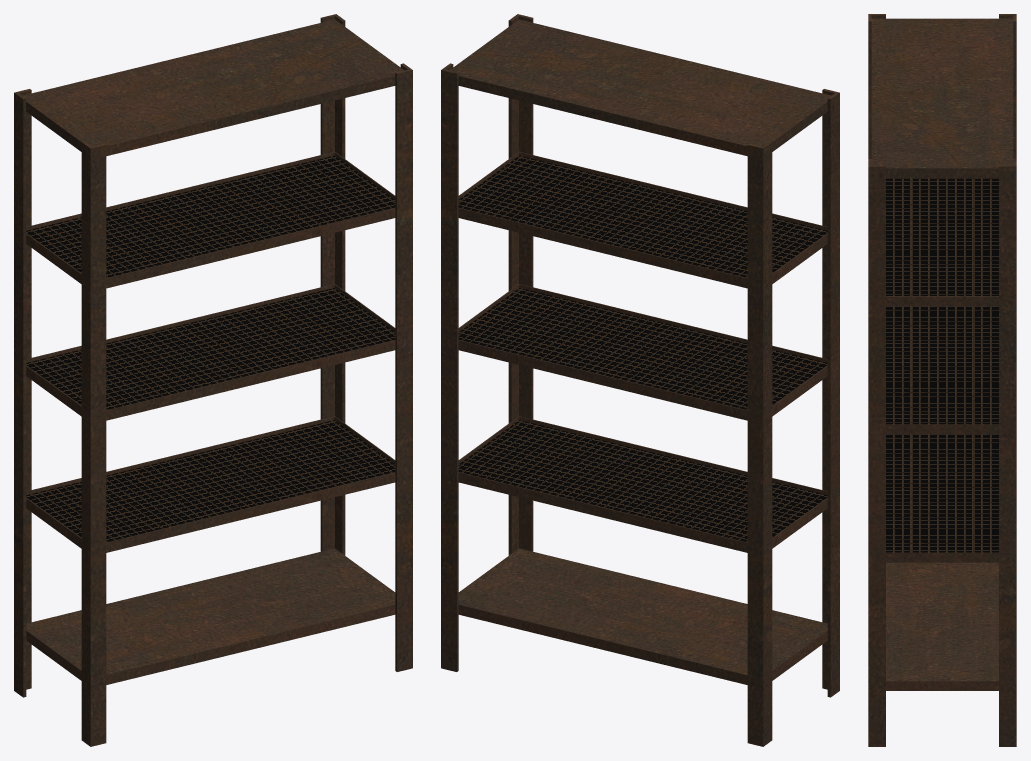
File: shelf_mx_6.obj
3 views of the same model, side by side, from view 1: azimuth 30°, elevation 25°; view 2: azimuth 150°, elevation 25°; view 3: azimuth 270°, elevation 25° (orthographic). The views are drawn at different scales.
Visible parts, largest first — view 1: shelf_mx_6; view 2: shelf_mx_6; view 3: shelf_mx_6.
Part boxes in pixels (x1,y1,x2,y2): shelf_mx_6: (14, 14, 412, 746); shelf_mx_6: (441, 14, 839, 746); shelf_mx_6: (868, 14, 1016, 746).
Size of the model in its own units: 1.02 by 1.81 by 0.42.
